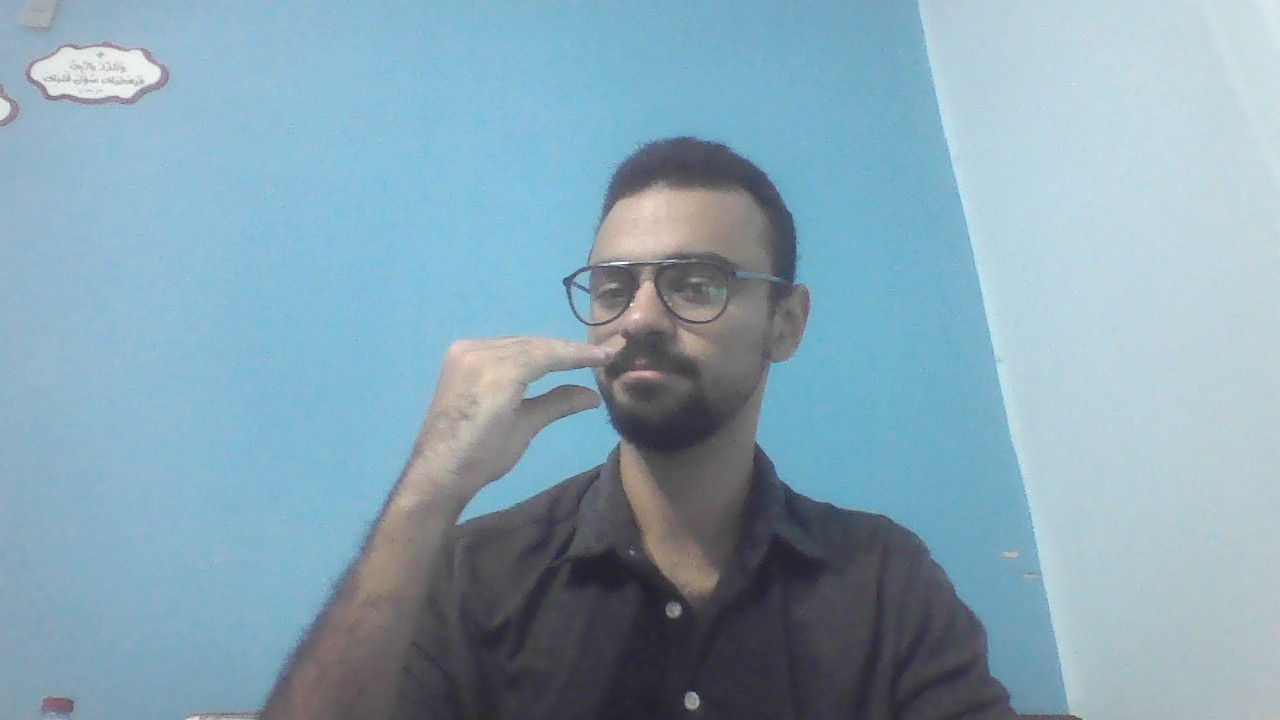eat: (410, 335, 613, 480)
